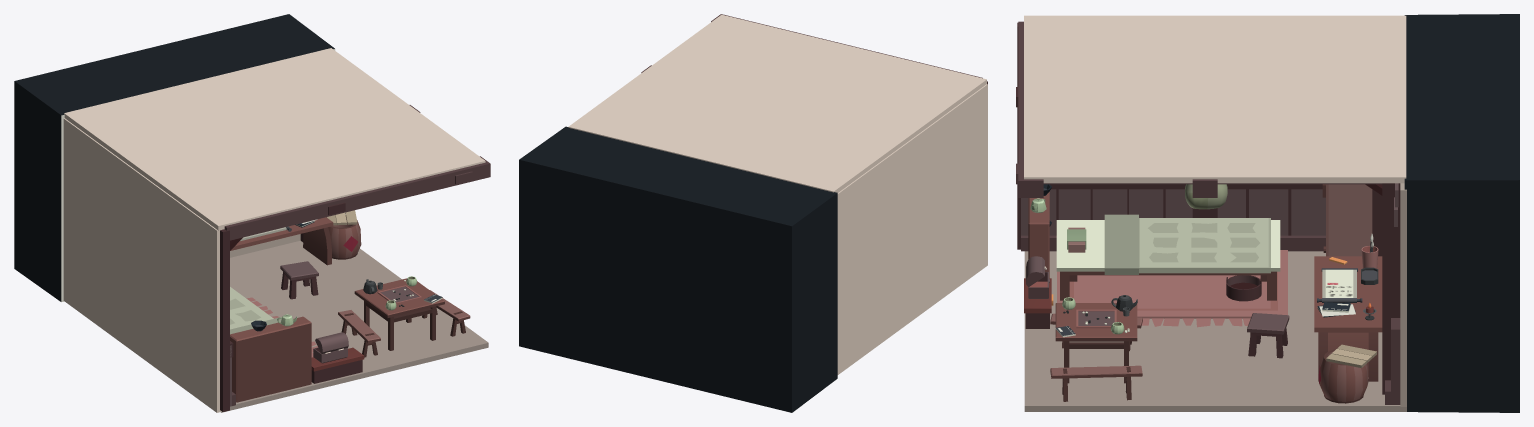
File: roomy.fbx
3 renders of one model, left to right at view 1: azimuth 30°, elevation 25°; view 2: azimuth 150°, elevation 25°; view 3: azimuth 270°, elevation 25°, orthographic. The views are drawn at different scales.
Visible parts, largest first — view 1: House, Bed1, GoTable, Table1; view 2: House; view 3: House, Bed1, Table1, GoTable, Cabin, Wall.
Part boxes in pixels (<box>): House: <box>14,14,490,412</box>; Bed1: <box>230,287,364,402</box>; GoTable: <box>338,276,470,357</box>; Table1: <box>230,210,361,299</box>; House: <box>519,14,987,412</box>; House: <box>1016,14,1519,412</box>; Bed1: <box>1024,184,1287,328</box>; Table1: <box>1247,234,1382,403</box>; GoTable: <box>1050,295,1142,401</box>; Cabin: <box>1322,184,1372,256</box>; Wall: <box>1185,184,1227,209</box>.
Size of the model in its own units: 25.89 by 16.84 by 32.94.
Materials: 2 (2 with a texture image).
